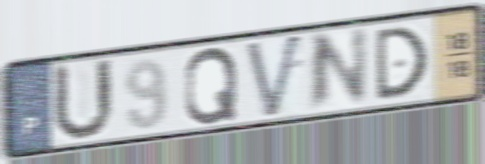9: (122, 56, 171, 132)
D: (372, 23, 431, 104)
N: (305, 25, 370, 116)
Q: (182, 44, 240, 127)
U: (49, 57, 117, 145)
V: (242, 30, 306, 122)
